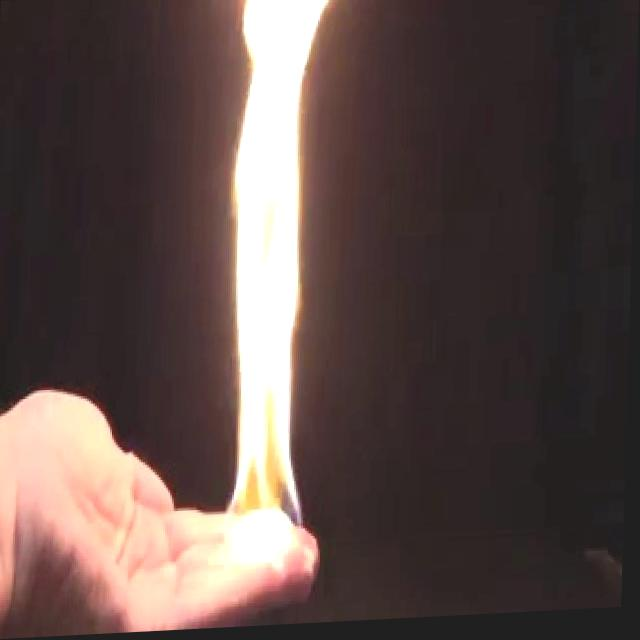helmet: (198, 0, 346, 578)
